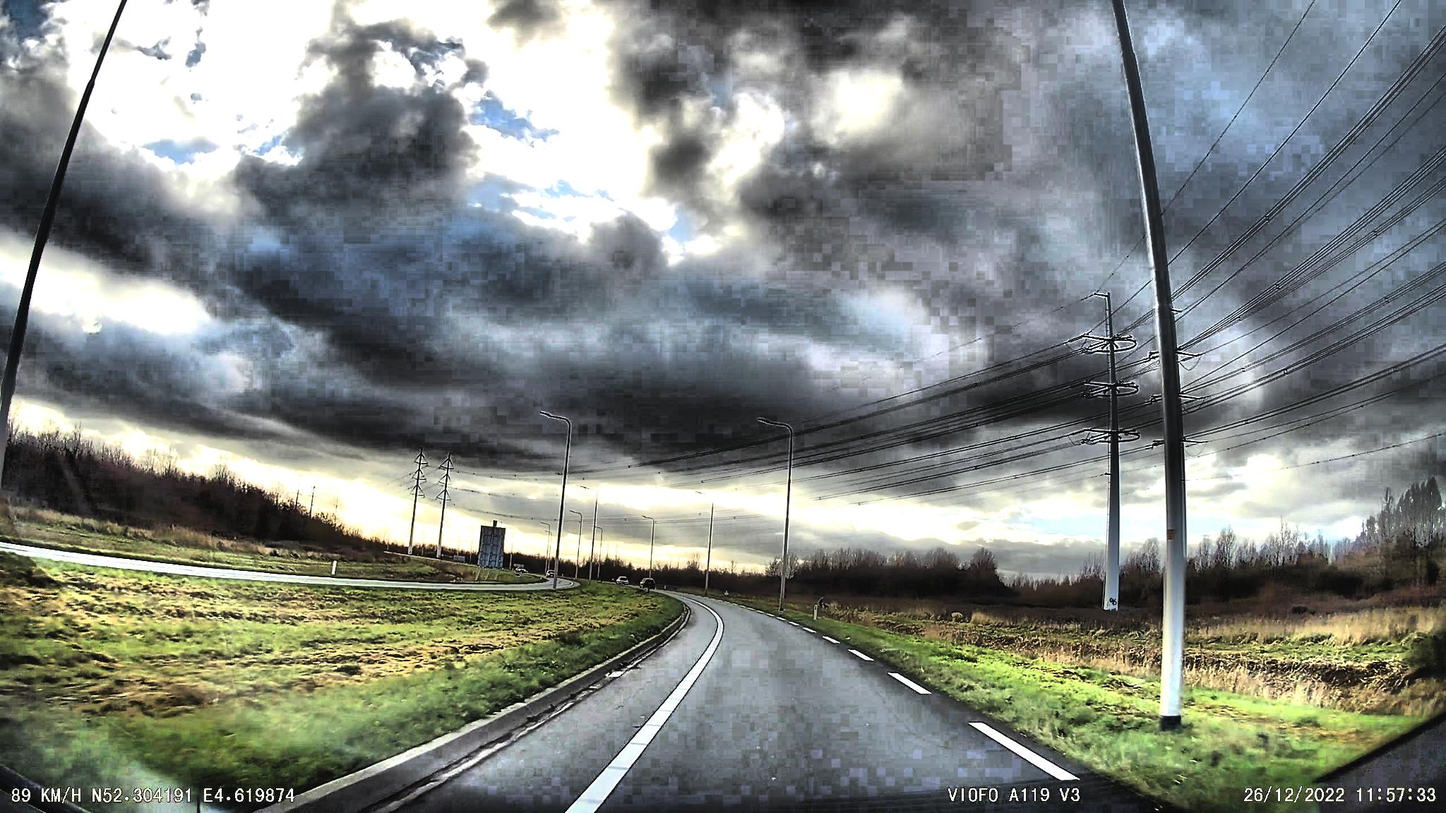Roads: (115, 601, 1161, 813)
